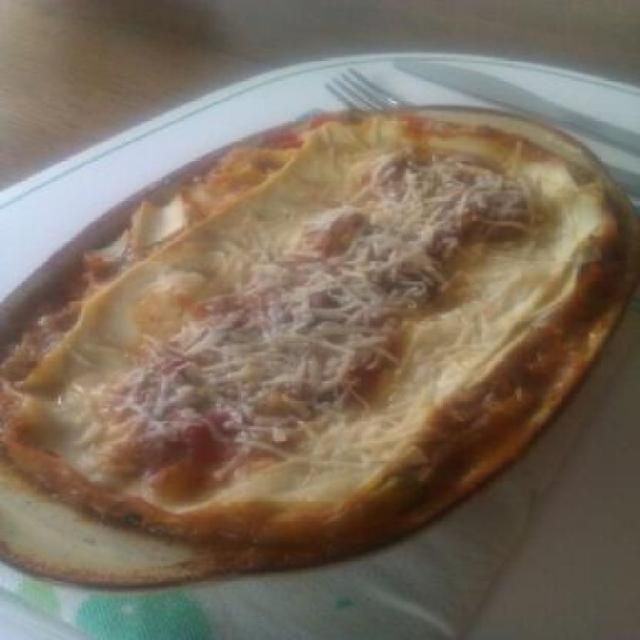Lasagna: (39, 138, 566, 530)
